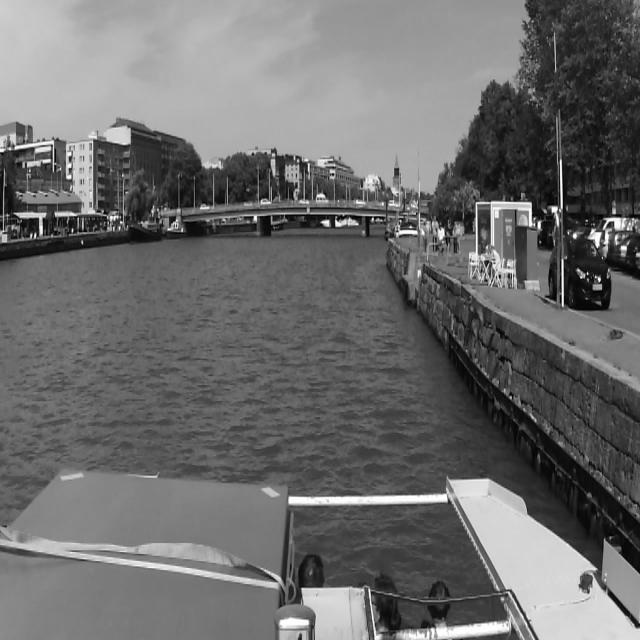ship: (128, 212, 162, 245), (167, 220, 187, 240)
